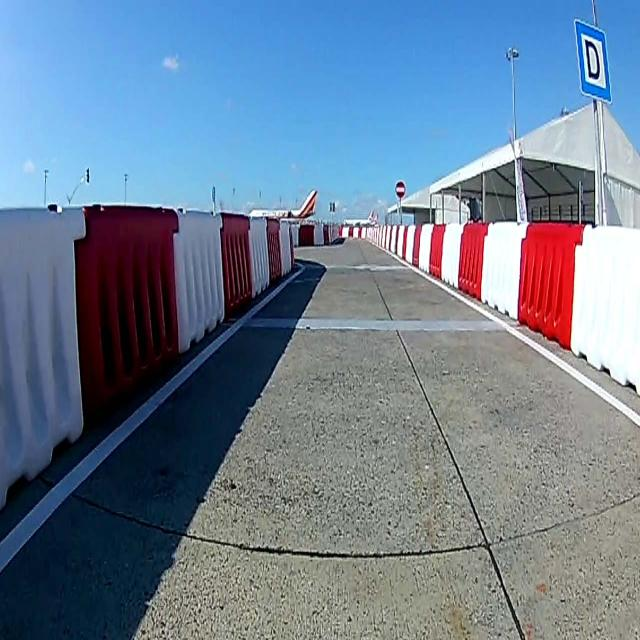durak: (574, 19, 612, 104)
girisyok: (394, 180, 406, 199)
